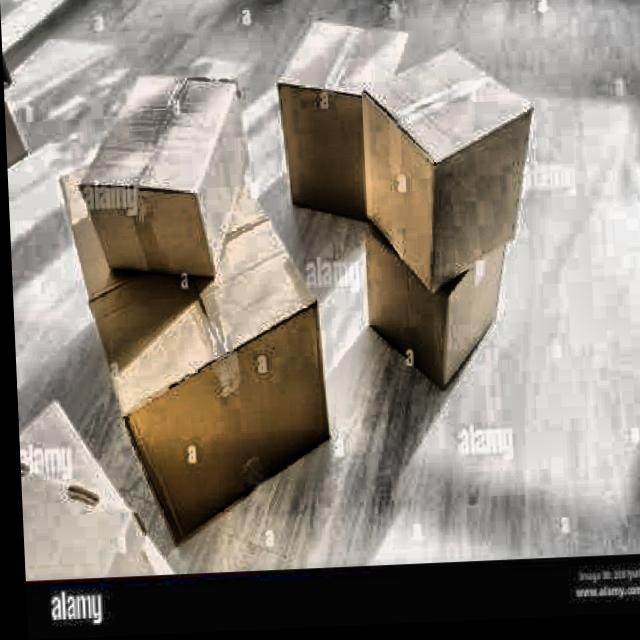Cardbox: (45, 150, 345, 538), (65, 56, 261, 287), (357, 40, 527, 294), (337, 206, 524, 407), (260, 7, 427, 230)
